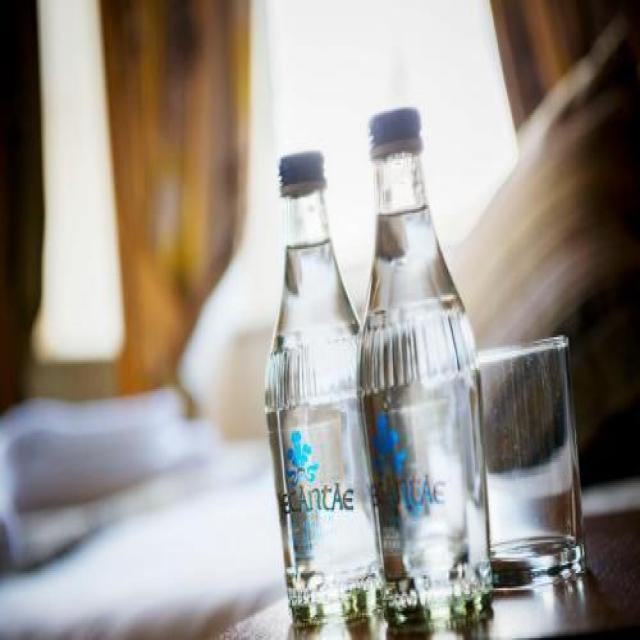bottle: (352, 96, 508, 624), (251, 138, 402, 638)
